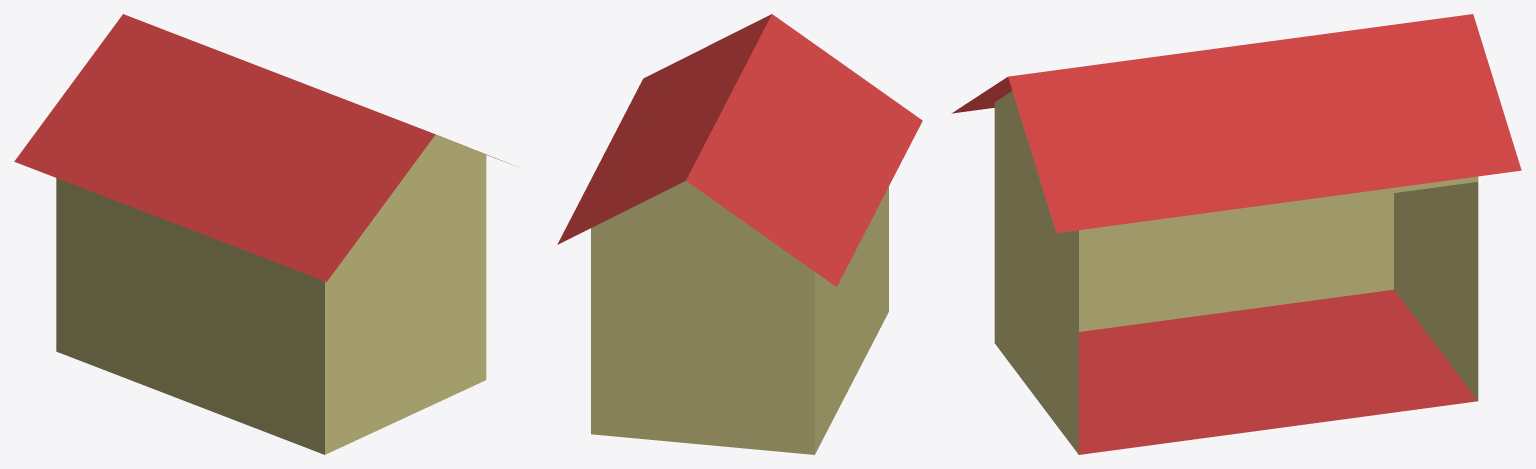
The picture shows the model from 3 angles, left to right: view 1: azimuth 30°, elevation 25°; view 2: azimuth 150°, elevation 25°; view 3: azimuth 270°, elevation 25°; orthographic projection. The views are drawn at different scales.
Bounding box in the file's own units: 10.37 × 12.38 × 7.96.
